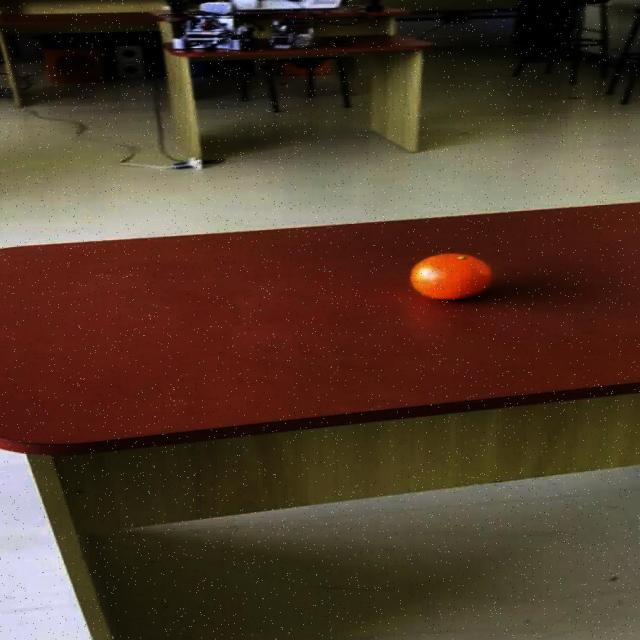Orange: (408, 252, 492, 300)
